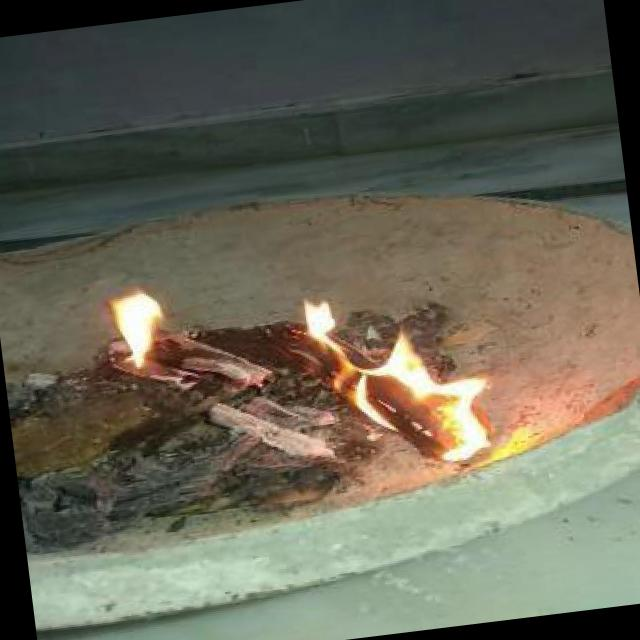Fire: (275, 274, 506, 484), (96, 280, 178, 382)
